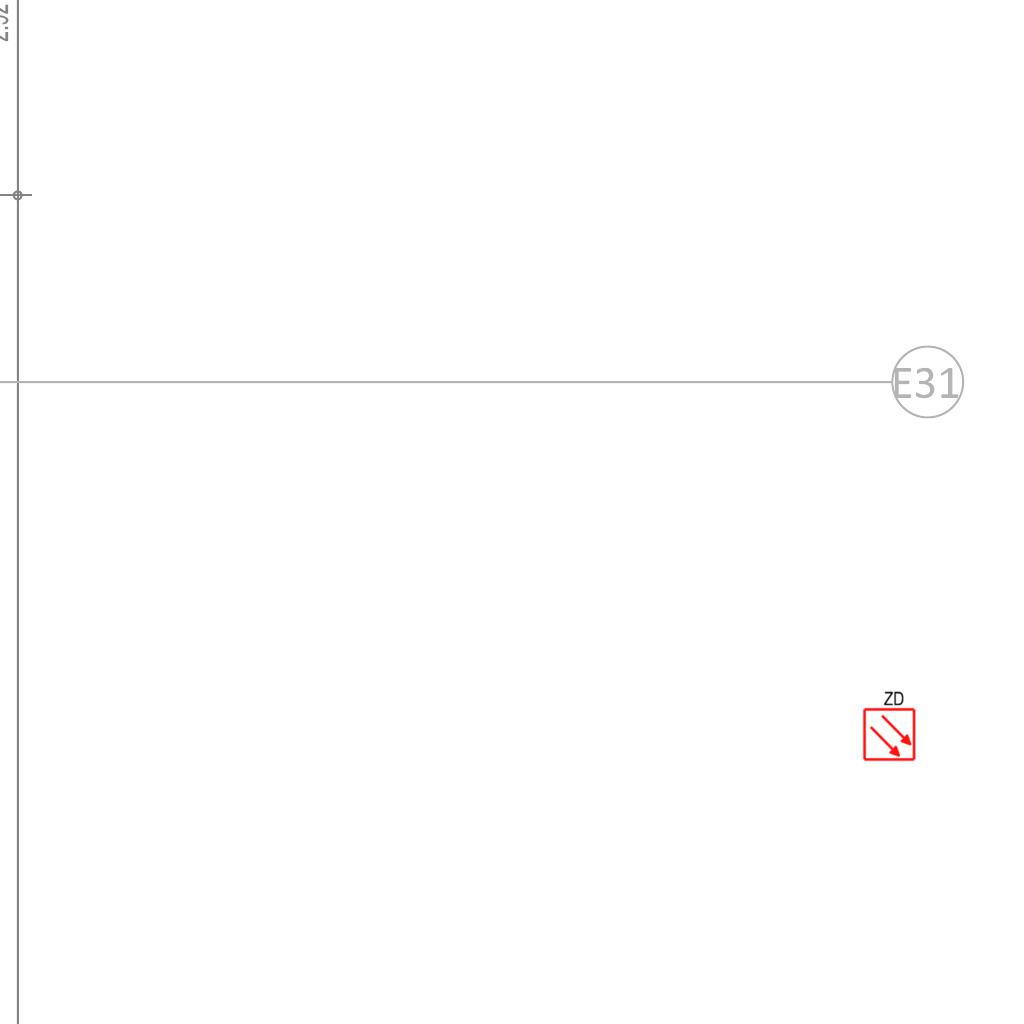ZD_Melder_in_Zwischendecke_mit_Revisionsoeffnung_mind_40_x_40_cm: (860, 688, 917, 762)
